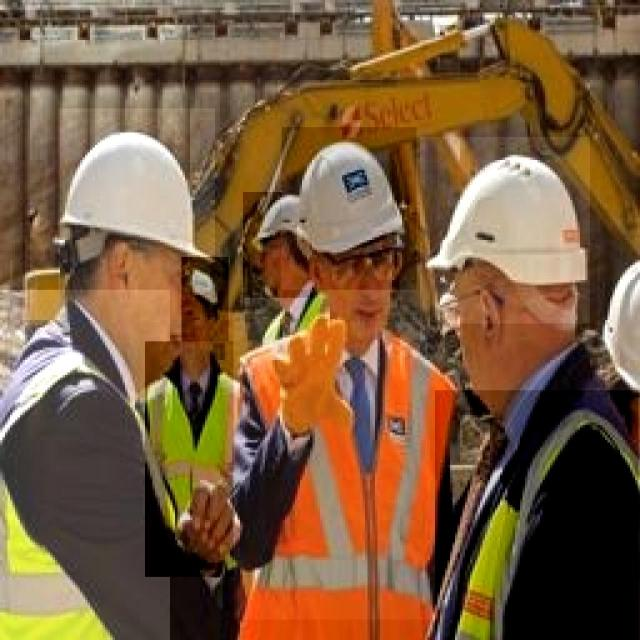Helmet: (59, 109, 215, 335), (420, 137, 590, 323), (282, 127, 417, 290), (597, 218, 640, 450), (244, 192, 314, 307), (182, 257, 228, 398)
Safety Vest: (233, 322, 445, 620), (0, 290, 170, 640), (435, 390, 639, 640), (145, 341, 255, 577), (243, 298, 335, 354)
